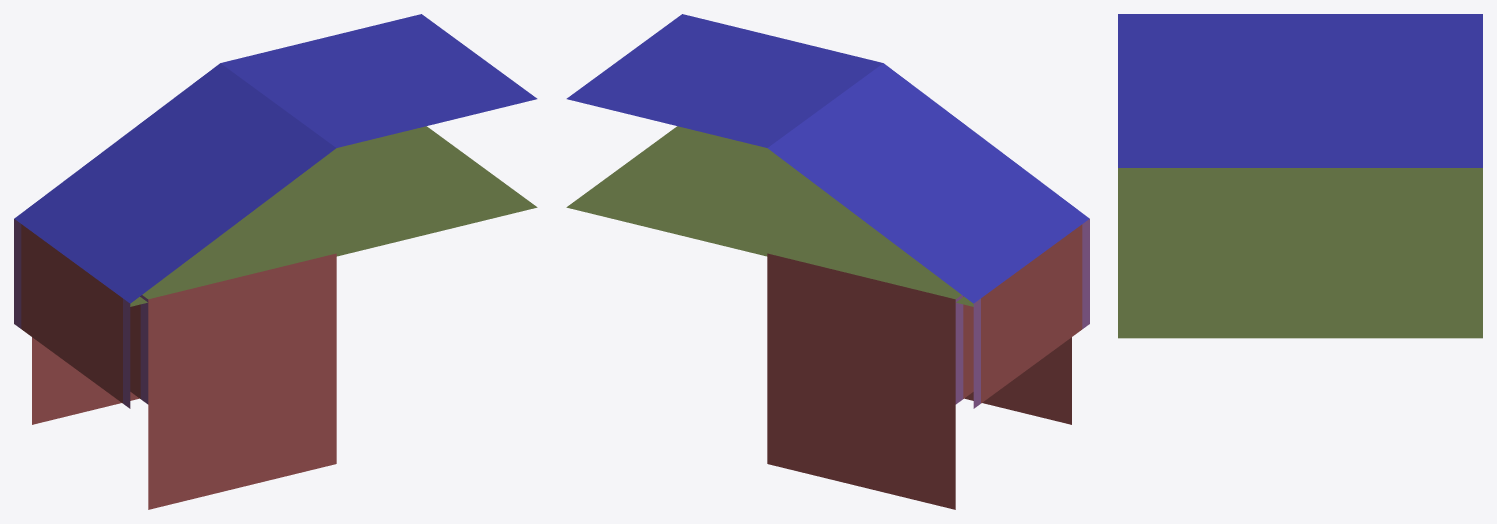
Rendered from PorchRoofBP.fbx.
3 views of the same model, side by side, from view 1: azimuth 30°, elevation 25°; view 2: azimuth 150°, elevation 25°; view 3: azimuth 270°, elevation 25° (orthographic). The views are drawn at different scales.
Visible parts, largest first — view 1: roof_side1, porch_roof_innerWall, floors, outerWall, outerPillars; view 2: roof_side1, porch_roof_innerWall, floors, outerWall, outerPillars; view 3: floors, roof_side1.
Boxes of the visible parts, x1,y1,x2,y2 form: roof_side1: (14, 14, 537, 303); porch_roof_innerWall: (32, 253, 336, 509); floors: (130, 126, 537, 306); outerWall: (21, 224, 122, 403); outerPillars: (14, 219, 148, 408); roof_side1: (566, 14, 1089, 303); porch_roof_innerWall: (767, 253, 1071, 509); floors: (566, 126, 973, 306); outerWall: (981, 224, 1082, 403); outerPillars: (955, 219, 1089, 408); floors: (1118, 168, 1482, 338); roof_side1: (1118, 14, 1482, 167).
Bounding box in the file's own units: 2.03 × 1.5 × 1.
